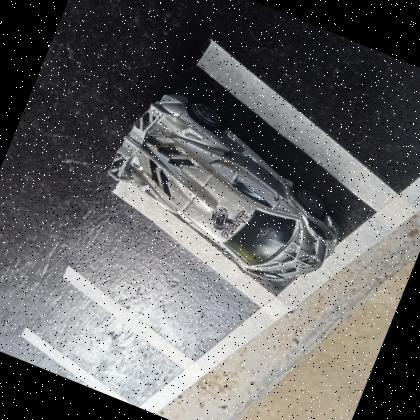Car: (109, 90, 340, 281)
